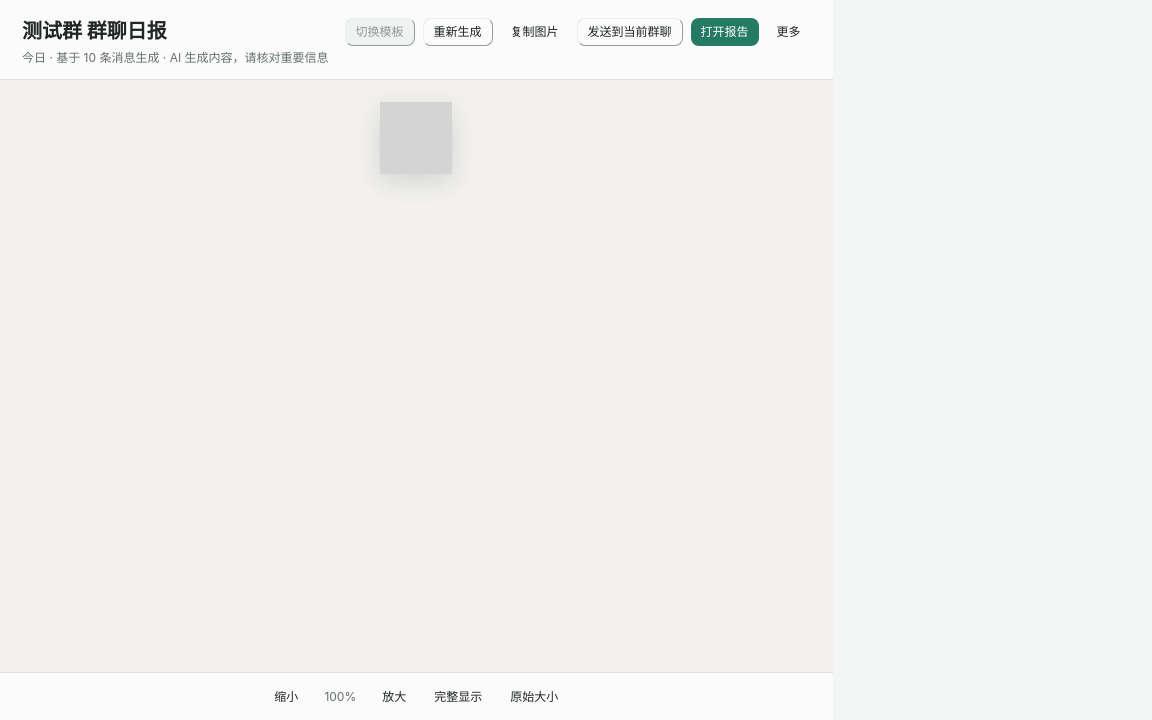
daily report controls › opens the current group send dialog with the report PNG ready to send
Click the button "发送到当前群聊" at (630, 32), box [577,18,683,46]
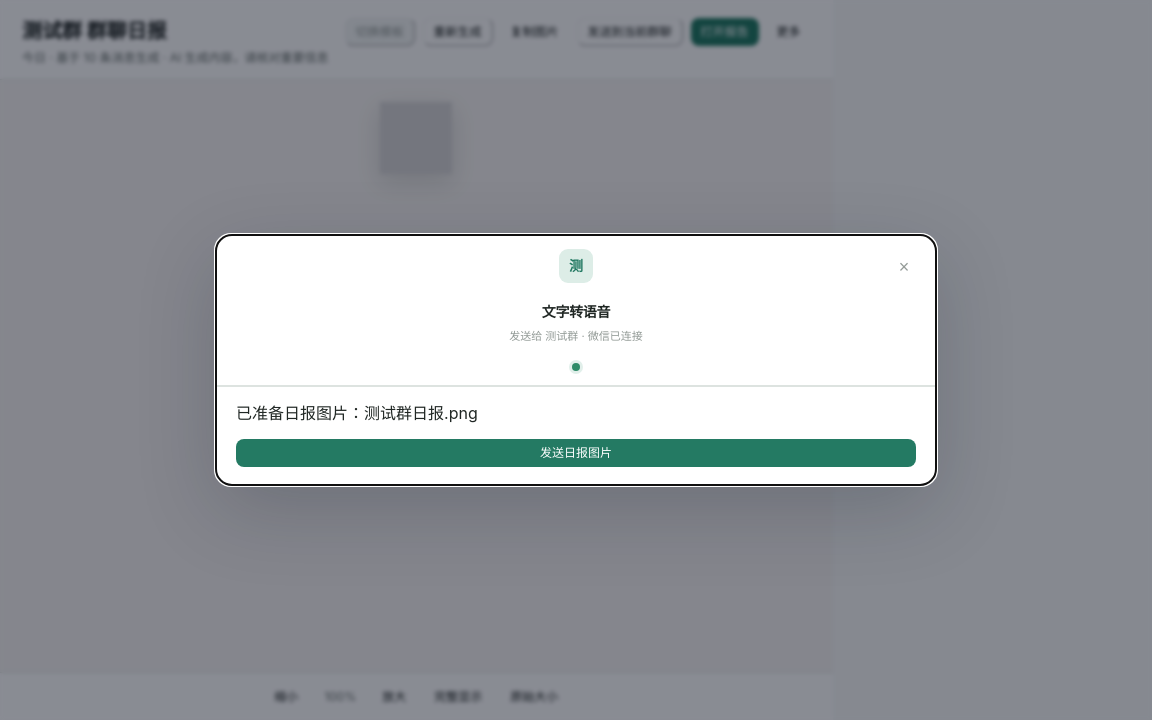
Expected: the dialog "测试群" is shown, [216,235,936,485]
Expected: the element named "日报图片发送" is shown, [216,386,936,485]
Expected: the button "发送日报图片" is enabled, [236,439,916,467]
